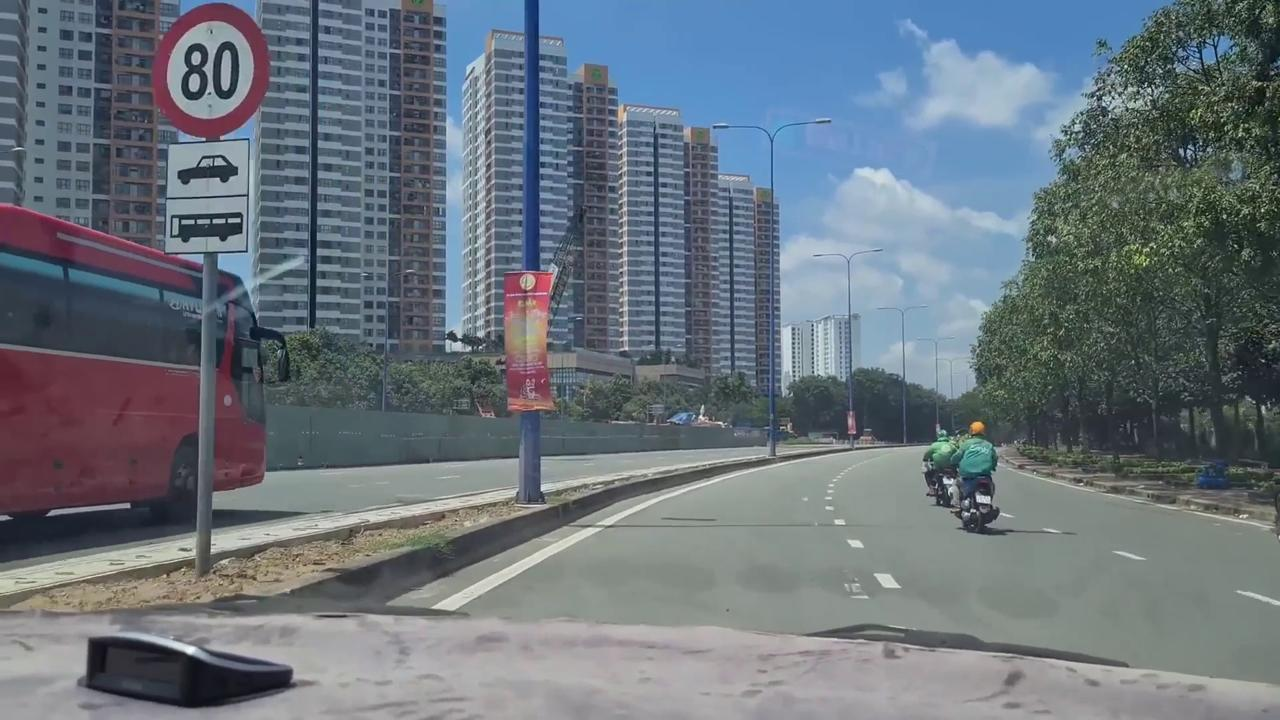Biển phụ: (162, 138, 250, 253)
Giới hạn tốc độ 80Km/h: (148, 2, 275, 140)
